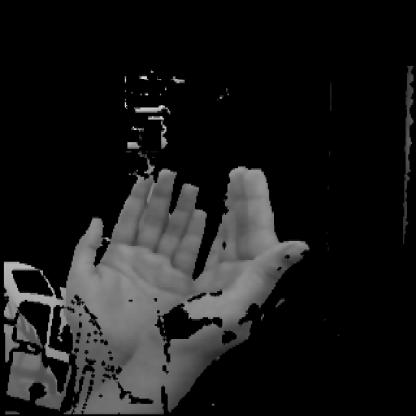dua: (50, 123, 318, 409)
